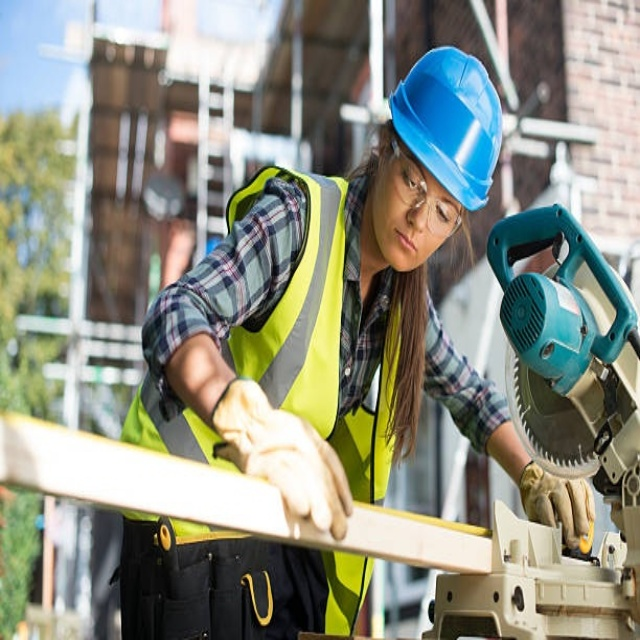Gafas: (390, 137, 466, 241)
Guantes: (208, 362, 362, 547), (520, 458, 597, 552)
Sin_mascara: (384, 223, 425, 267)
